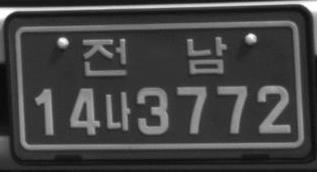1: (32, 87, 61, 136)
2: (256, 84, 292, 135)
3: (135, 86, 170, 135)
4: (68, 87, 101, 135)
7: (215, 83, 250, 136), (175, 84, 208, 136)
나: (103, 90, 131, 131)
전남_D: (81, 35, 228, 77)
